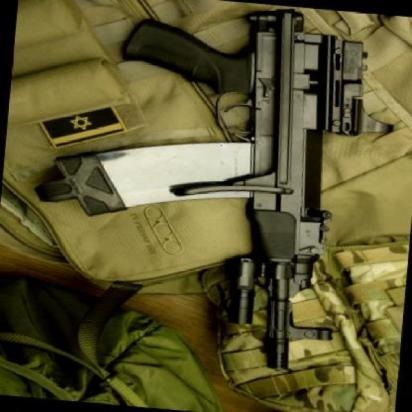Gun: (64, 0, 404, 379)
